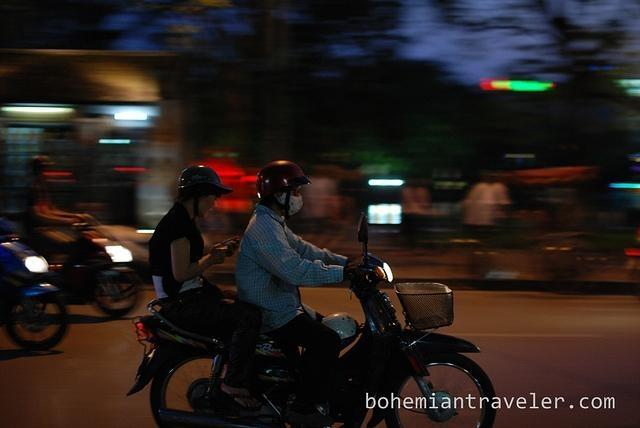motorcycle: (127, 212, 496, 422), (30, 221, 146, 319), (1, 234, 69, 349)
